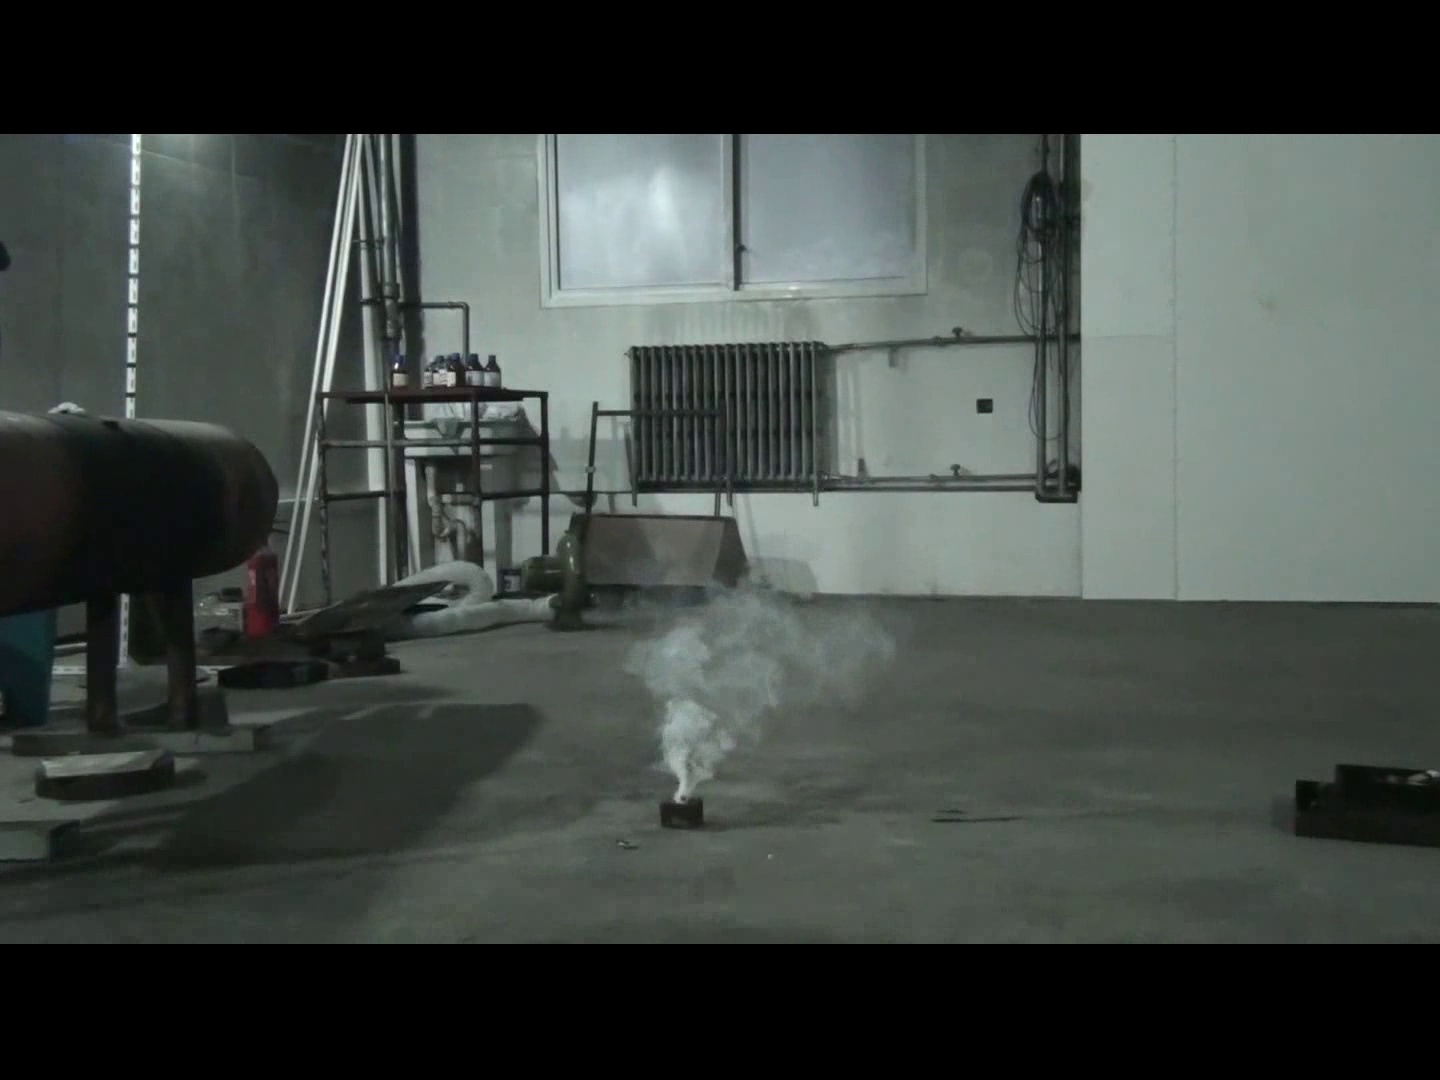smoke: (591, 532, 914, 793)
